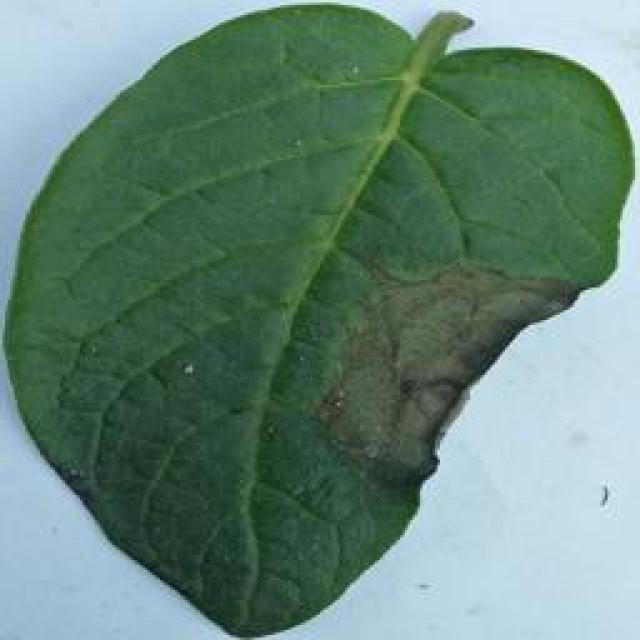Potato_Late_Blight: (9, 6, 623, 636)
